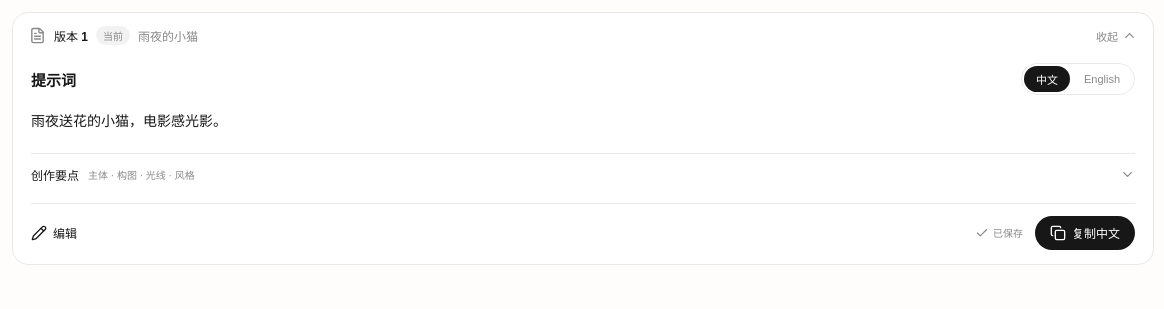
Test: version-specific creation result › opens the latest version with bilingual output and copies its selected language
Expected: the text "雨夜送花的小猫，电影感光影。" is shown, [31,113,227,129]
Click the tab "English".
click(1102, 79)  # box [1072,66,1132,92]
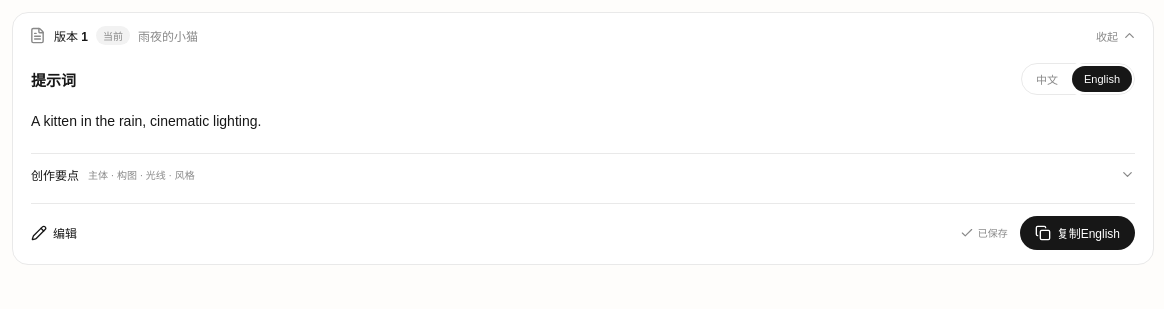
Expected: the panel named "English" reads "A kitten in the rain, cinematic lighting.", [31,113,261,129]
Click the button "复制English".
click(1077, 233)  # box [1020,216,1135,250]
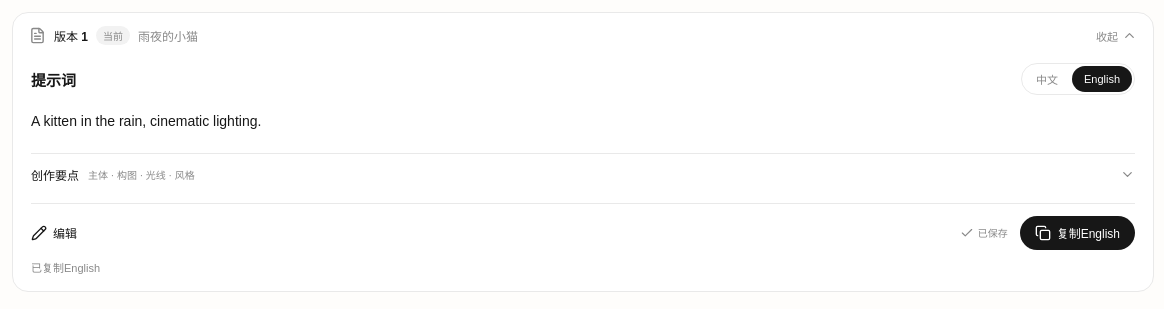
Expected: the message reads "已复制English", [31,262,100,274]
